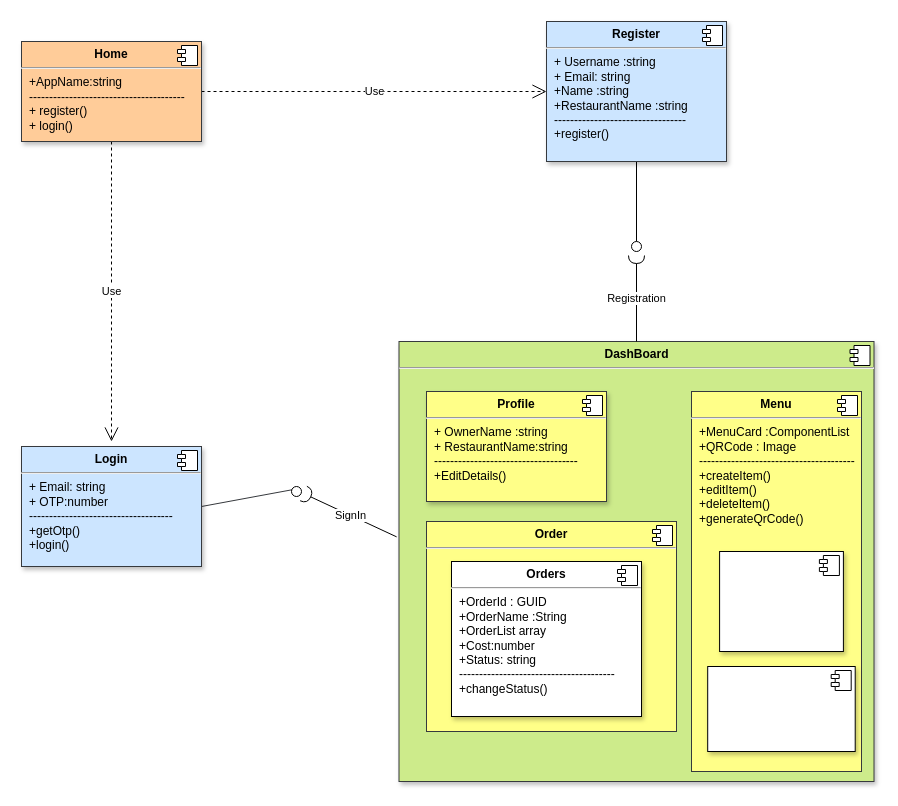
This 898x806 diagram has some shape labels left out. The shapes that lost their labels are listed below. From the top down, each one's centre as x and y in pixels, then its label:
(782,602): Menu card +Name: string +Description: string +Image :image +Cost: number
(782,710): QR Code +QRCode:Image ------------------------------ + GenerateQRCode()
